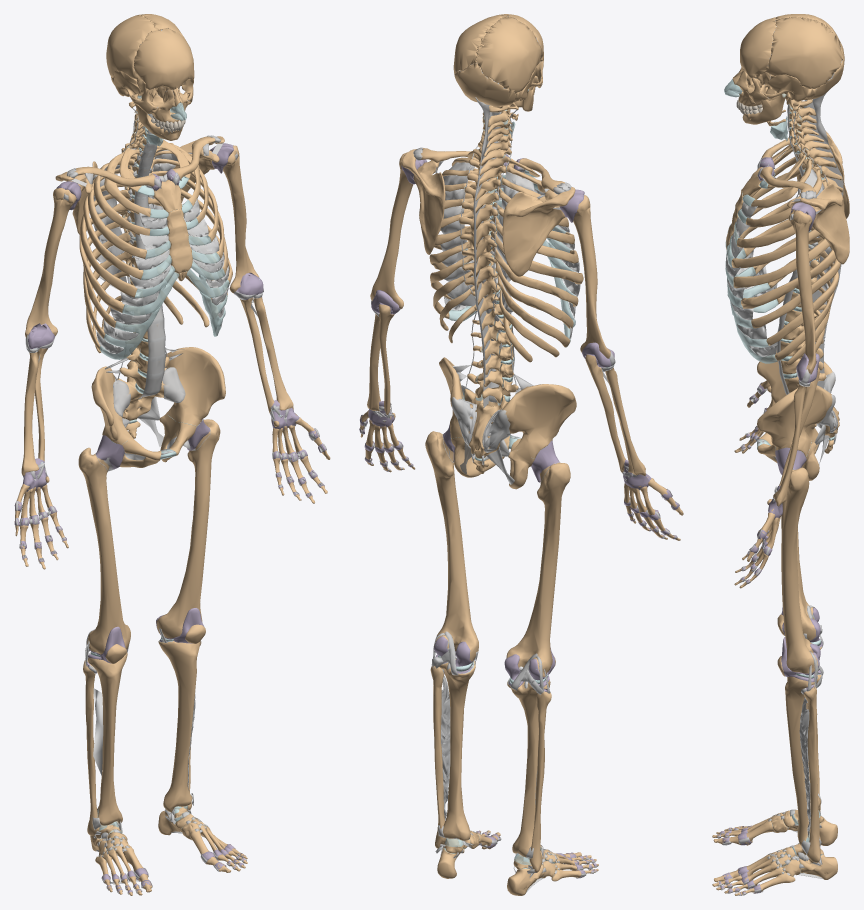
The model's file is arthrology.glb.
3 renders of one model, left to right at view 1: azimuth 30°, elevation 25°; view 2: azimuth 150°, elevation 25°; view 3: azimuth 270°, elevation 25°, orthographic. The views are drawn at different scales.
Visible parts, largest first — view 1: Object_9, Object_69, Object_42, Object_7, Object_35, Object_4, Object_57; view 2: Object_9, Object_69, Object_35, Object_7, Object_4, Object_57, Object_42; view 3: Object_9, Object_69, Object_35, Object_42, Object_7, Object_4, Object_57, Object_51.
Part boxes in pixels (bbox=[...]): Object_9: bbox=[14, 14, 330, 895]; Object_69: bbox=[15, 114, 326, 894]; Object_42: bbox=[21, 95, 319, 889]; Object_7: bbox=[14, 169, 325, 893]; Object_35: bbox=[117, 97, 169, 438]; Object_4: bbox=[56, 143, 233, 663]; Object_57: bbox=[38, 108, 257, 790]; Object_9: bbox=[360, 14, 683, 895]; Object_69: bbox=[360, 97, 679, 891]; Object_35: bbox=[459, 102, 518, 473]; Object_7: bbox=[359, 154, 679, 878]; Object_4: bbox=[401, 155, 584, 687]; Object_57: bbox=[441, 109, 608, 819]; Object_42: bbox=[366, 89, 666, 877]; Object_9: bbox=[712, 14, 849, 895]; Object_69: bbox=[717, 89, 843, 895]; Object_35: bbox=[780, 99, 842, 453]; Object_42: bbox=[724, 79, 822, 880]; Object_7: bbox=[717, 157, 819, 895]; Object_4: bbox=[775, 202, 822, 682]; Object_57: bbox=[774, 110, 827, 837]; Object_51: bbox=[757, 108, 834, 449].
Size of the model in its own units: 0.6692 by 1.7 by 0.25.
